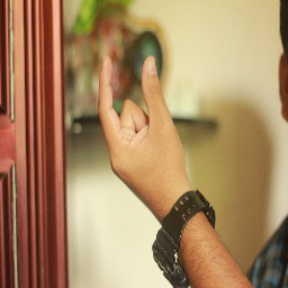U: (88, 49, 189, 186)
